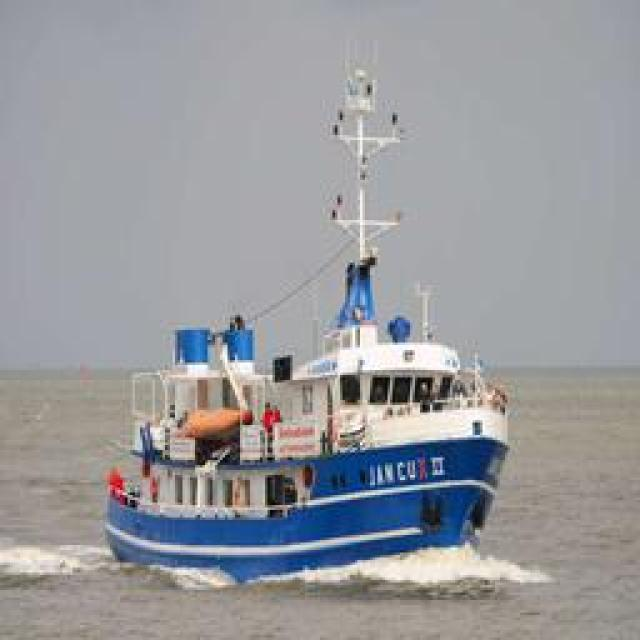ship2: (105, 42, 510, 585)
